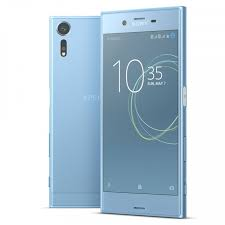sony: (96, 7, 189, 221), (47, 12, 100, 210)
